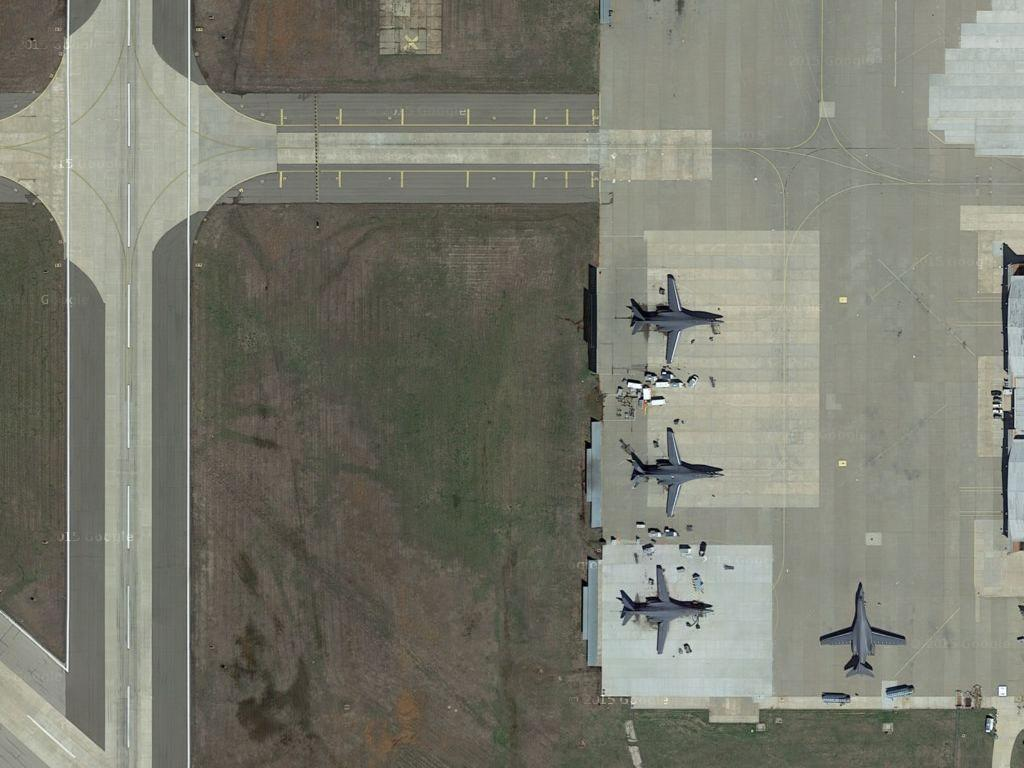B-1B: (623, 270, 729, 363), (613, 564, 718, 657), (817, 582, 911, 680), (623, 427, 725, 513)
